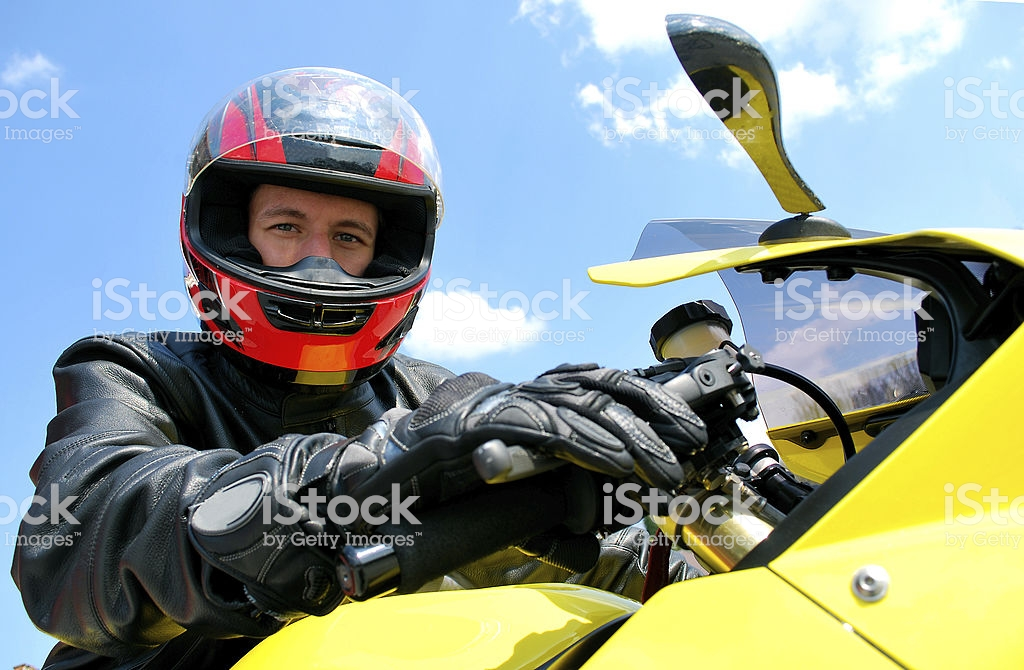helmet: (168, 81, 447, 381)
